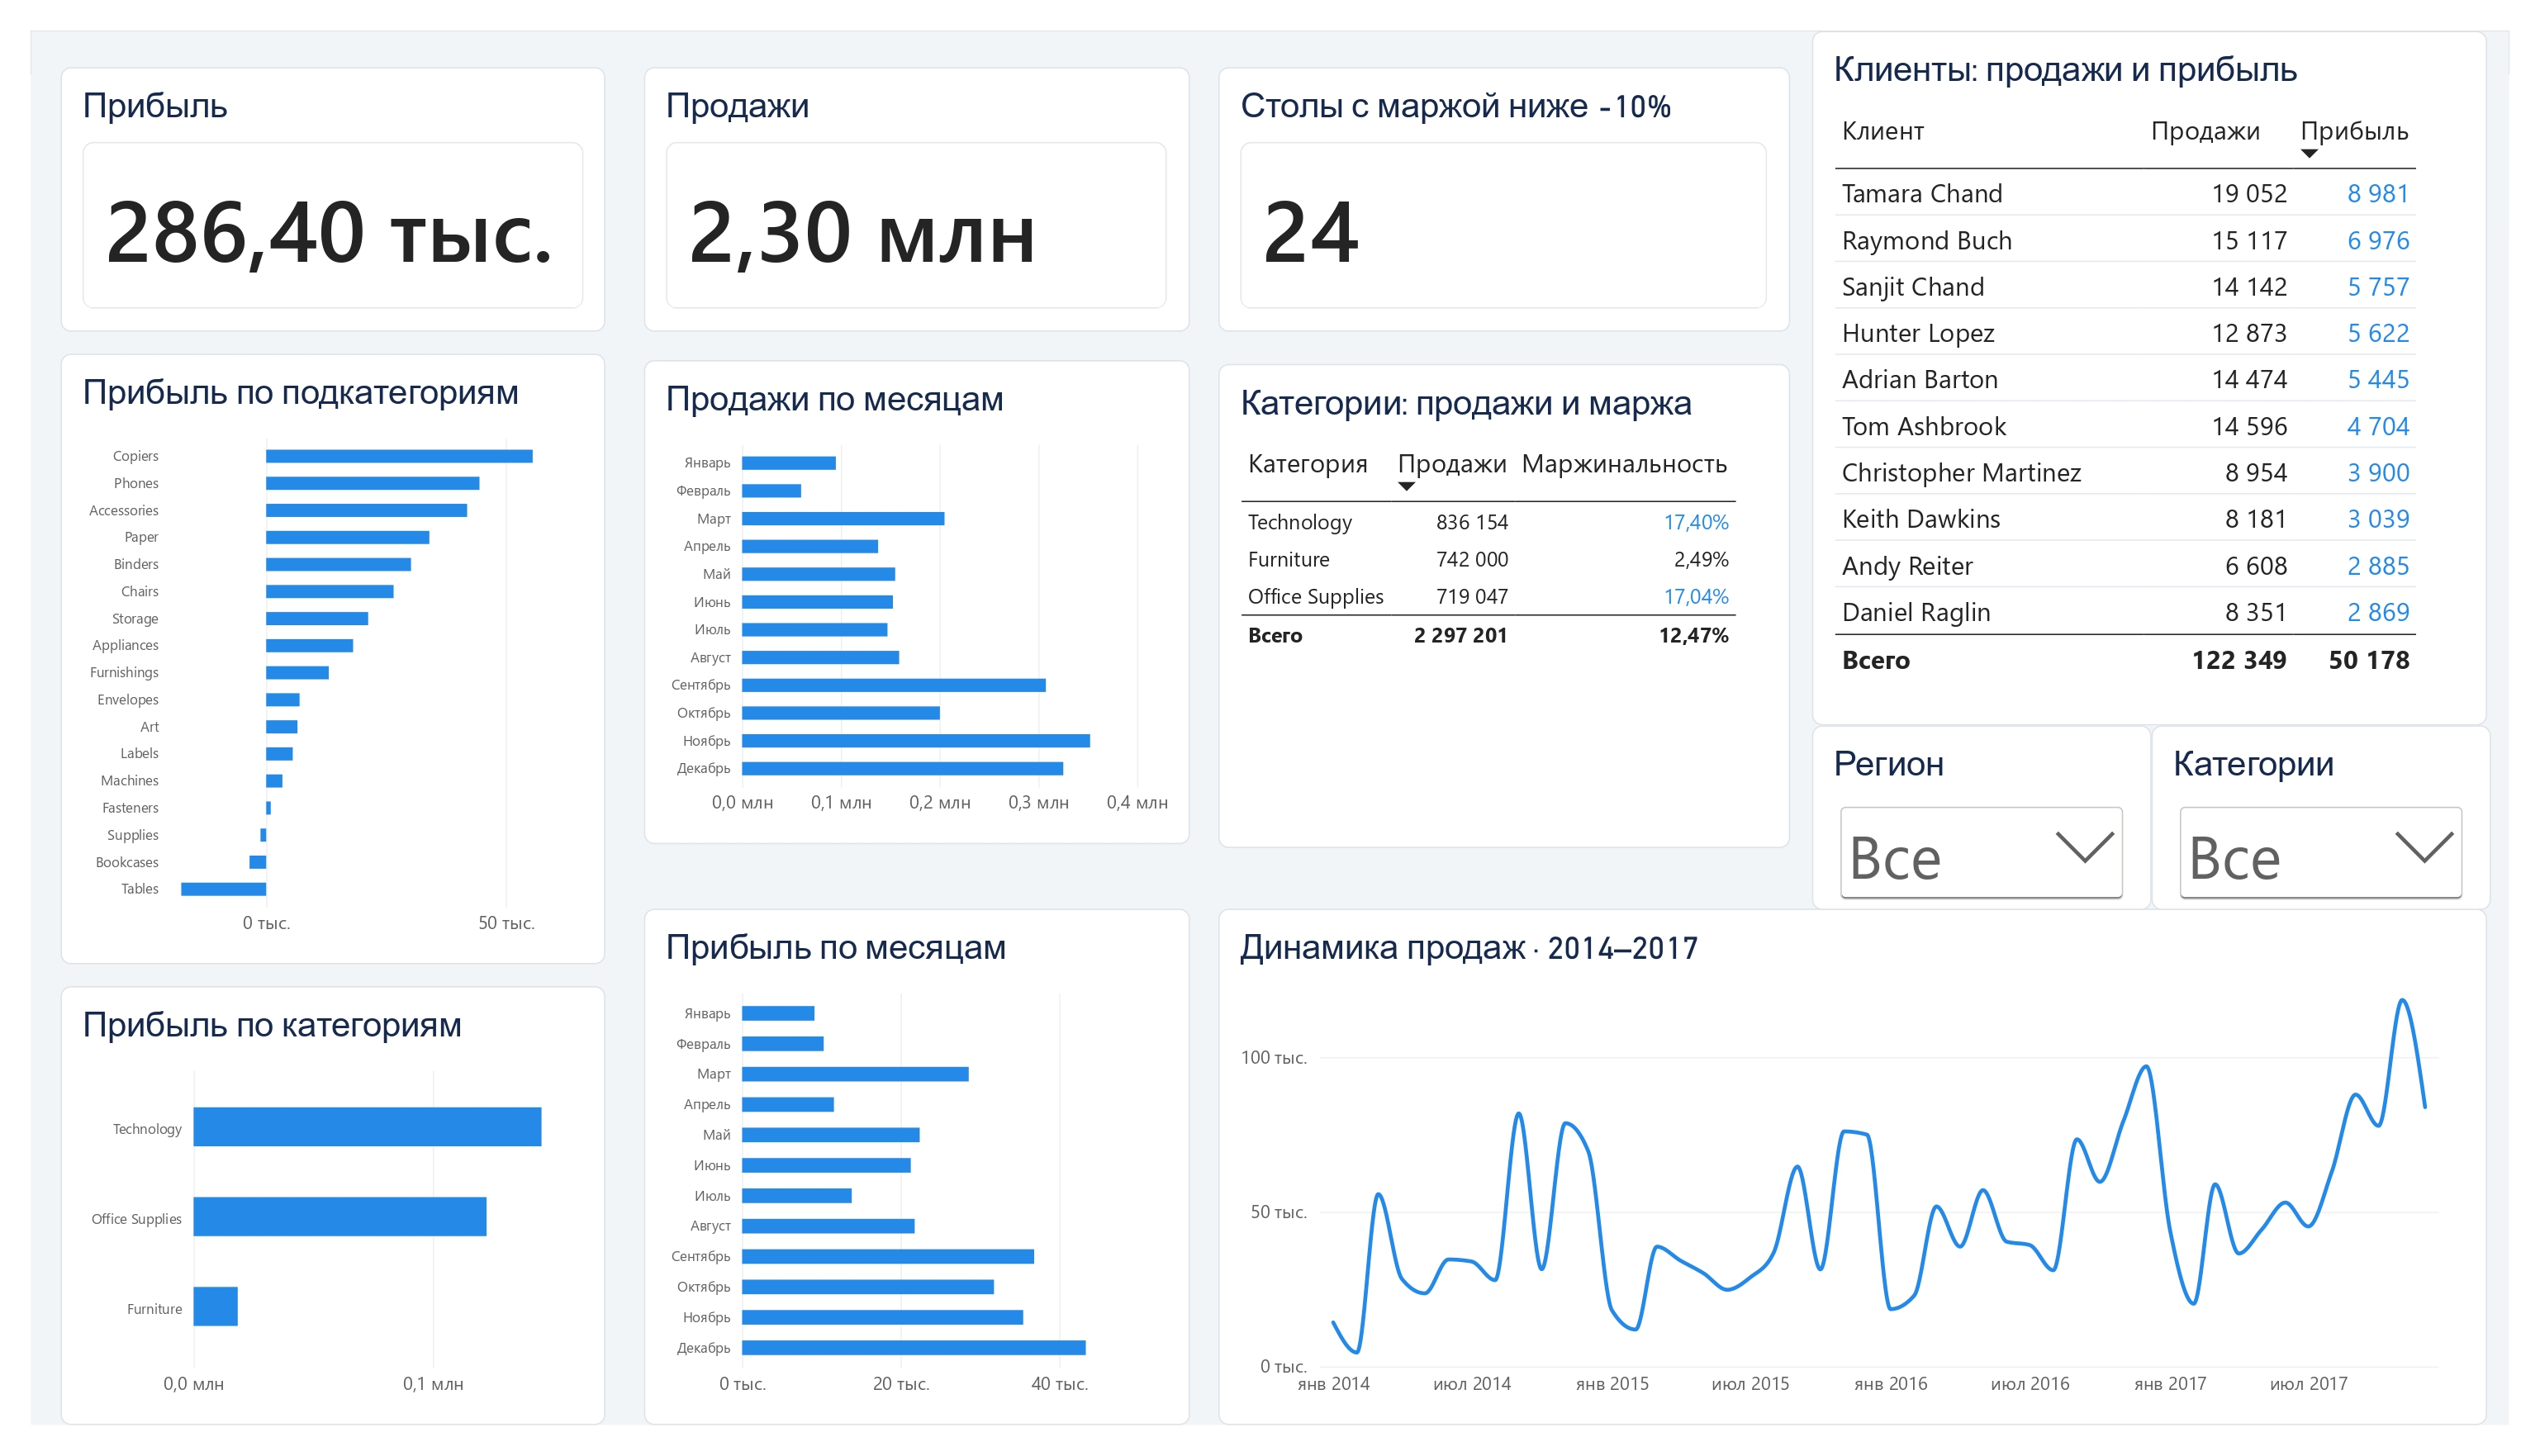

The page's visual inventory and layout, read from the dashboard file:
{"tool":"powerbi","page":{"name":"Страница 1","canvas":[1920,1080],"ordinal":0},"visuals":[{"type":"cardVisual","title":"Прибыль","fields":{"Data":["Sum(Sample - Superstore (2).Profit)"]},"box":[22.5,27.5,422.5,205],"z":0},{"type":"cardVisual","title":"Продажи","fields":{"Data":["Sum(Sample - Superstore (2).Sales)"]},"box":[475,27.5,422.5,205],"z":1000},{"type":"barChart","title":"Прибыль по категориям","fields":{"Category":["Sample - Superstore (2).Category_Text"],"Y":["Sum(Sample - Superstore (2).Profit)"]},"box":[22.5,740,422.5,340],"z":2000},{"type":"barChart","title":"Прибыль по подкатегориям","fields":{"Category":["Sample - Superstore (2).Sub-Category"],"Y":["Sum(Sample - Superstore (2).Profit)"]},"box":[22.5,250,422.5,472.5],"z":3000},{"type":"barChart","title":"Продажи по месяцам","fields":{"Category":["Sample - Superstore (2).Order Date.Изменение.Иерархия дат.Месяц"],"Y":["Sum(Sample - Superstore (2).Sales)"]},"box":[475,255,422.5,375],"z":4000},{"type":"tableEx","title":"Клиенты: продажи и прибыль","fields":{"Values":["Sample - Superstore (2).Customer Name","Sum(Sample - Superstore (2).Sales)","Sum(Sample - Superstore (2).Profit)"]},"box":[1380,0,522.5,537.5],"z":5000},{"type":"lineChart","title":"Динамика продаж · 2014–2017","fields":{"Category":["Sample - Superstore (2).Year Month"],"Y":["Sum(Sample - Superstore (2).Sales)"]},"box":[920,680,983.3,400],"z":6000},{"type":"barChart","title":"Прибыль по месяцам","fields":{"Category":["Sample - Superstore (2).Order Date.Изменение.Иерархия дат.Месяц"],"Y":["Sum(Sample - Superstore (2).Profit)"]},"box":[475,680,422.5,400],"z":7000},{"type":"tableEx","title":"Категории: продажи и маржа","fields":{"Values":["Sample - Superstore (2).Category","Sum(Sample - Superstore (2).Sales)","Sample - Superstore (2).Profit Margin"]},"box":[920,257.5,442.5,375],"z":8000},{"type":"cardVisual","title":"Столы с маржой ниже −10%","fields":{"Data":["Sample - Superstore (2).Unprofitable Tables"]},"box":[920,27.5,442.5,205],"z":9000},{"type":"slicer","title":"Категории","fields":{"Values":["Sample - Superstore (2).Category"]},"box":[1642.5,537.5,263.3,143.3],"z":10000},{"type":"slicer","title":"Регион","fields":{"Values":["Sample - Superstore (2).Region"]},"box":[1380,537.5,263.3,143.3],"z":11000}]}

Visuals, with their boxes on the page's 1920x1080 design canvas (x1, y1, x2, y2). These are canvas units, not pixel positions in the 2540x1456 screenshot, which may show the page scaled, cropped or inside an application window:
"Прибыль" cardVisual: bbox=(22, 28, 445, 232)
"Продажи" cardVisual: bbox=(475, 28, 898, 232)
"Прибыль по категориям" barChart: bbox=(22, 740, 445, 1080)
"Прибыль по подкатегориям" barChart: bbox=(22, 250, 445, 722)
"Продажи по месяцам" barChart: bbox=(475, 255, 898, 630)
"Клиенты: продажи и прибыль" tableEx: bbox=(1380, 0, 1902, 538)
"Динамика продаж · 2014–2017" lineChart: bbox=(920, 680, 1903, 1080)
"Прибыль по месяцам" barChart: bbox=(475, 680, 898, 1080)
"Категории: продажи и маржа" tableEx: bbox=(920, 258, 1362, 632)
"Столы с маржой ниже −10%" cardVisual: bbox=(920, 28, 1362, 232)
"Категории" slicer: bbox=(1642, 538, 1906, 681)
"Регион" slicer: bbox=(1380, 538, 1643, 681)
